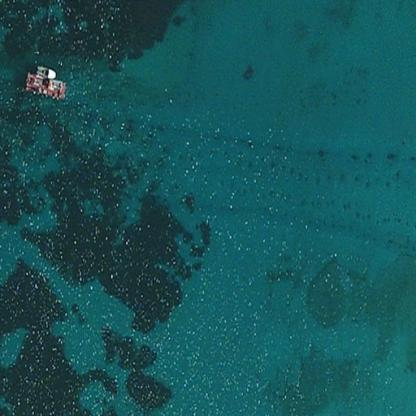ship: (23, 63, 68, 102)
